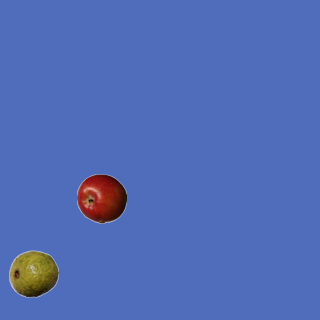Apple Braeburn: (76, 173, 126, 223)
Guava: (8, 248, 58, 298)
